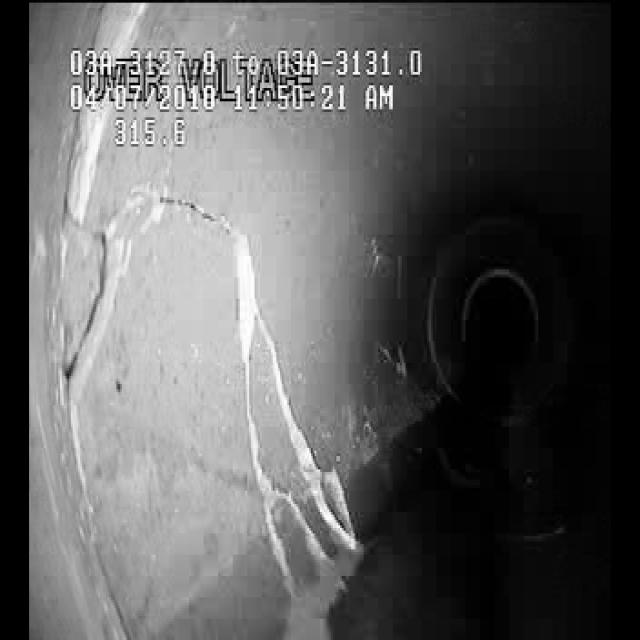Crack: (59, 168, 358, 516)
